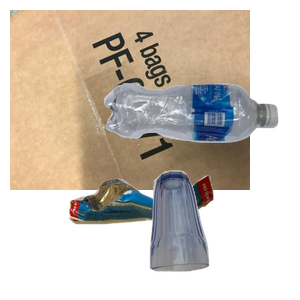cardboard: (10, 10, 250, 190)
glass: (147, 168, 300, 300)
plastic: (102, 81, 300, 216)
trash: (66, 173, 272, 300)
